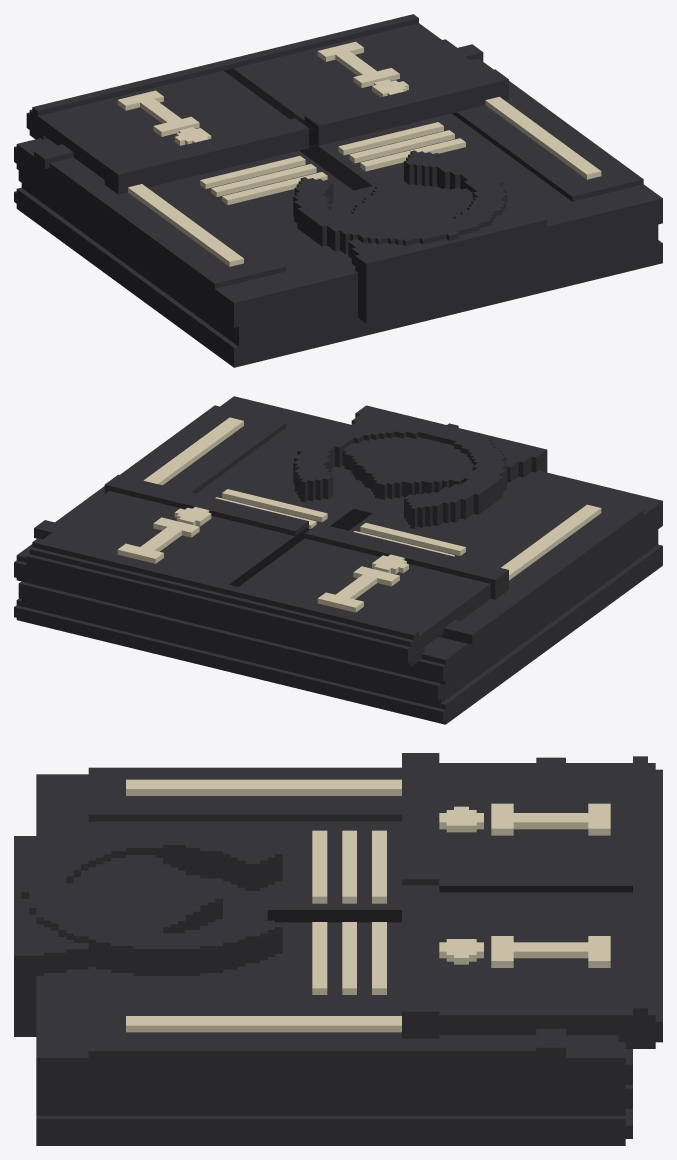
Rendered from jumpsuit_skeleton.glb.
3 views of the same model, one above another, from view 1: azimuth 30°, elevation 25°; view 2: azimuth 150°, elevation 25°; view 3: azimuth 270°, elevation 25° (orthographic). The views are drawn at different scales.
Visible parts, largest first — view 1: jumpsuit_skeleton:compound; view 2: jumpsuit_skeleton:compound; view 3: jumpsuit_skeleton:compound.
Boxes of the visible parts, x1,y1,x2,y2 form: jumpsuit_skeleton:compound: [14, 14, 662, 367]; jumpsuit_skeleton:compound: [14, 396, 662, 724]; jumpsuit_skeleton:compound: [14, 753, 662, 1145].
Bounding box in the file's own units: 0.368 × 0.072 × 0.348.
